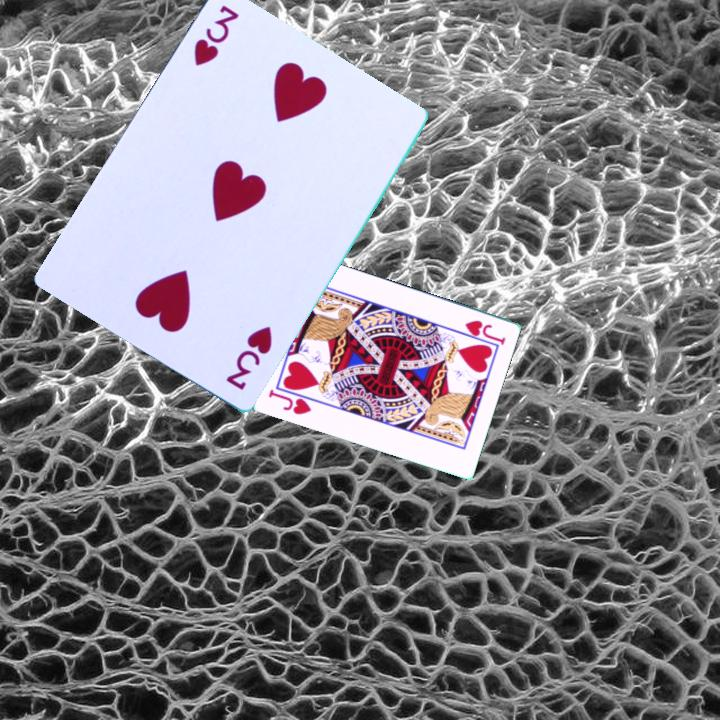3h: (222, 323, 276, 394), (190, 2, 242, 70)
Jh: (265, 386, 314, 418), (461, 317, 508, 348)
